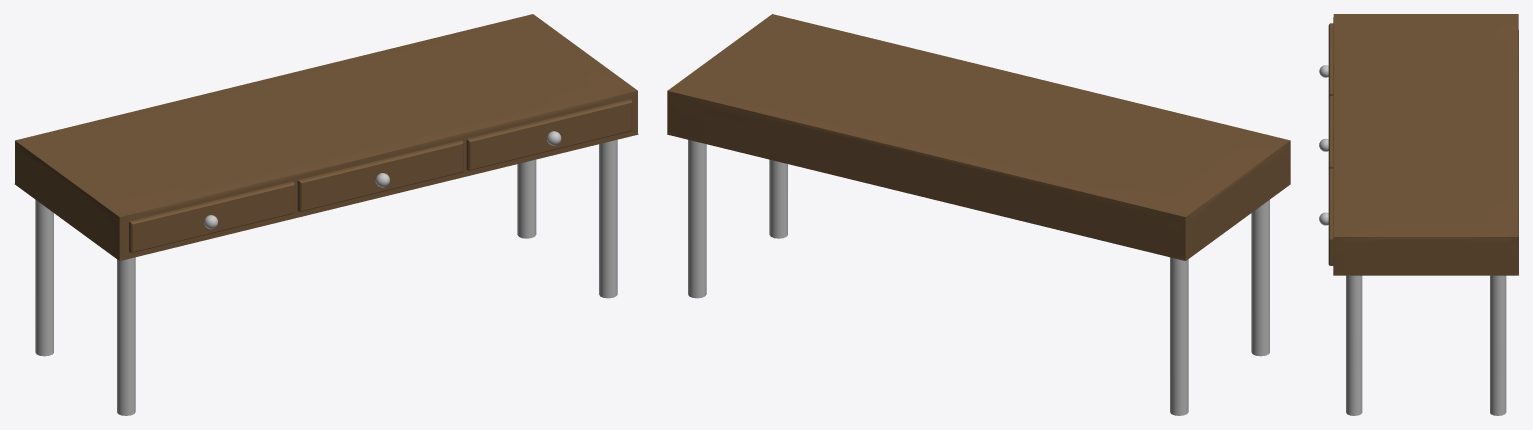
The model's file is table.glb.
The picture shows the model from 3 angles, left to right: view 1: azimuth 30°, elevation 25°; view 2: azimuth 150°, elevation 25°; view 3: azimuth 270°, elevation 25°; orthographic projection. The views are drawn at different scales.
Parts seen in each view (by area): view 1: Plane.005_5_0, Plane.007_4_0, Circle.007_0_0; view 2: Plane.005_5_0, Circle.007_0_0; view 3: Plane.005_5_0, Circle.007_0_0, Plane.007_4_0.
Part boxes in pixels (x1=…): Plane.005_5_0: x1=14, y1=14, x2=638, y2=260; Plane.007_4_0: x1=129, y1=99, x2=632, y2=252; Circle.007_0_0: x1=35, y1=139, x2=617, y2=415; Plane.005_5_0: x1=667, y1=14, x2=1290, y2=260; Circle.007_0_0: x1=688, y1=139, x2=1269, y2=415; Plane.005_5_0: x1=1333, y1=14, x2=1518, y2=275; Circle.007_0_0: x1=1346, y1=275, x2=1506, y2=415; Plane.007_4_0: x1=1328, y1=23, x2=1333, y2=265.
Size of the model in its own units: 3.7 by 1.42 by 1.4.
